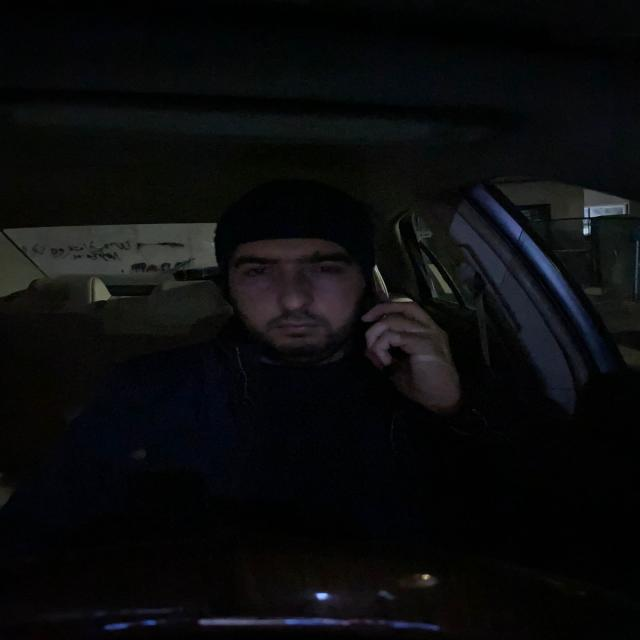mobile: (359, 341, 407, 383)
person: (201, 177, 379, 356)
